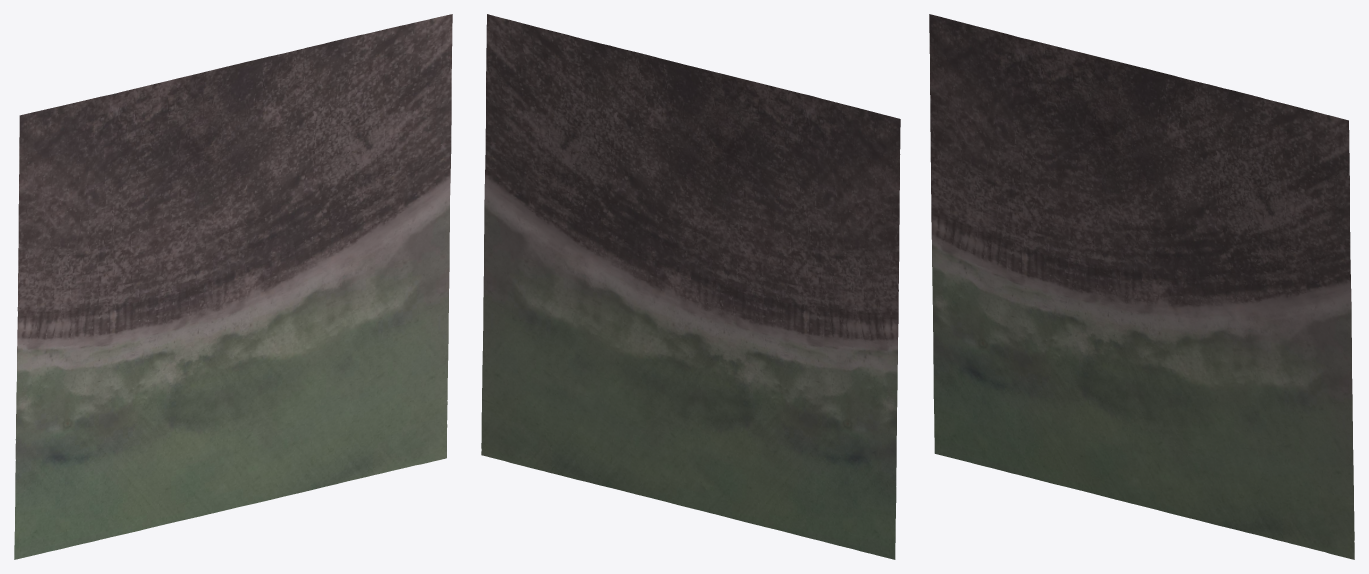
The model's file is Tile_+016_+007.fbx.
3 renders of one model, left to right at view 1: azimuth 30°, elevation 25°; view 2: azimuth 150°, elevation 25°; view 3: azimuth 330°, elevation 25°, orthographic. The views are drawn at different scales.
Visible parts, largest first — view 1: DefaultName; view 2: DefaultName; view 3: DefaultName.
Part boxes in pixels (<box>): DefaultName: <box>14,14,452,559</box>; DefaultName: <box>481,14,900,559</box>; DefaultName: <box>929,14,1354,559</box>.
Bounding box in the file's own units: 22.54 × 22.54 × 0.8824.
